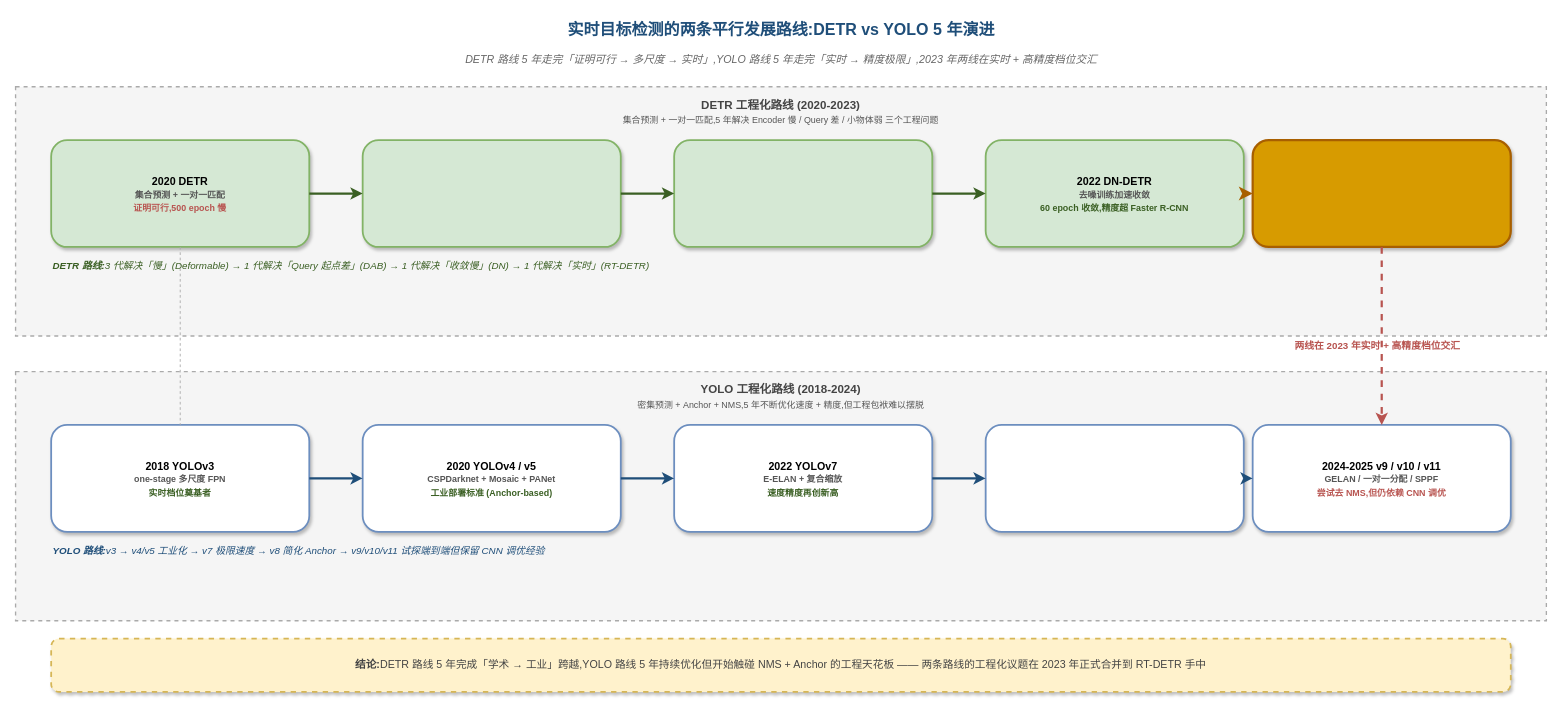
The diagram is 1563 pixels wide and 714 high, and some of its shapes have lost their labels. Each missing label, with the centre of its shape:
2021 Deformable DETR 多尺度 + 可变形注意力 50 epoch,4 尺度但更慢: (x=492, y=194)
2022 DAB-DETR 显式 4D 坐标 Query Query 编码位置信息: (x=803, y=194)
2023 RT-DETR Hybrid Encoder + IoU-aware Query T4 108 FPS,53.0 AP,实时 + 端到端: (x=1382, y=194)
2023 YOLOv8 Anchor-free + C2f 模块 Ultralytics 主线,工业标配: (x=1115, y=479)
